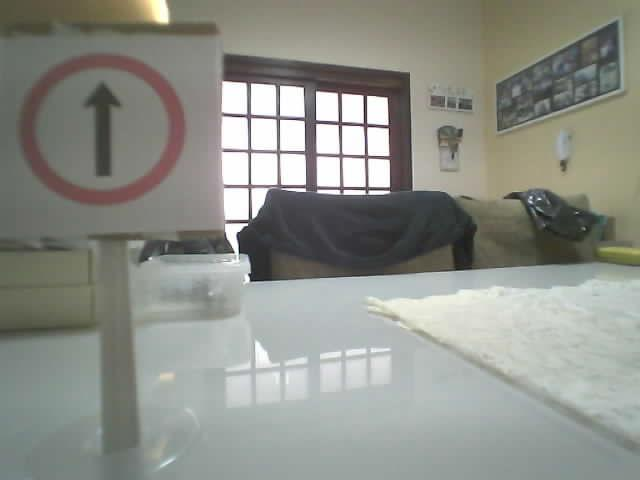R-26_frente: (19, 53, 184, 205)
